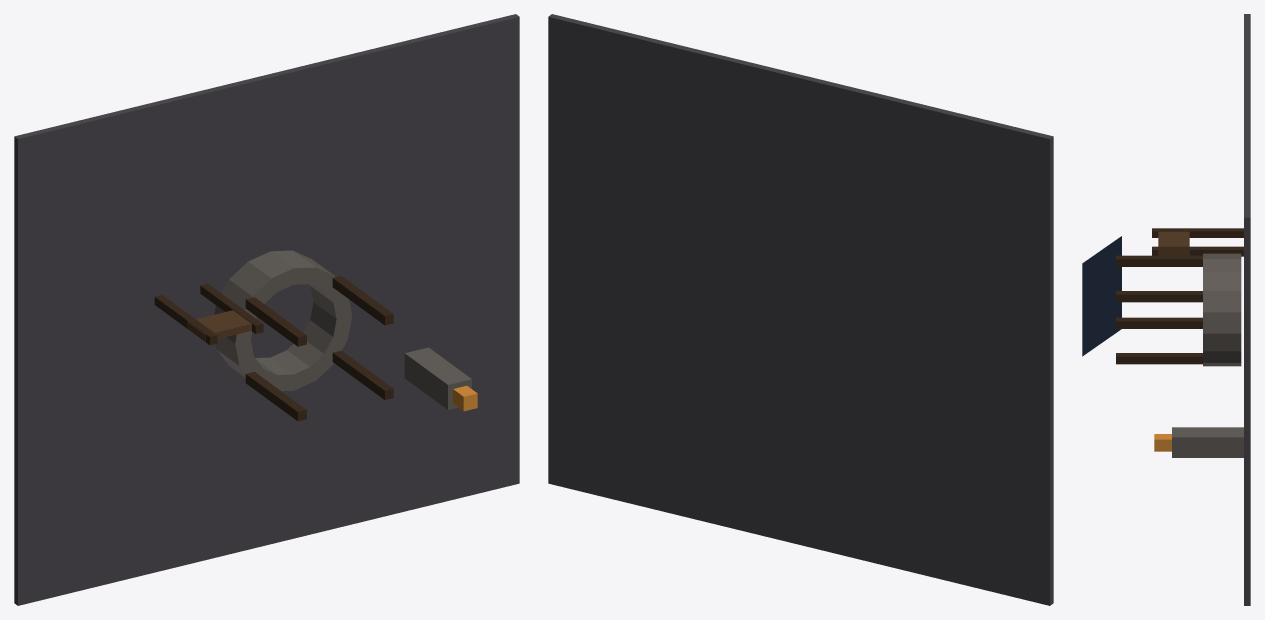
Rendered from t1-central-square-preview.obj.
3 renders of one model, left to right at view 1: azimuth 30°, elevation 25°; view 2: azimuth 150°, elevation 25°; view 3: azimuth 270°, elevation 25°, orthographic. The views are drawn at different scales.
Visible parts, largest first — view 1: town.center.paving, town.center.well, town.center.well-supports, town.center.lantern-pillar, town.center.noticeboard-posts, town.center.noticeboard-panel; view 2: town.center.paving; view 3: town.center.well, town.center.well-supports, town.center.paving, town.center.well-canopy, town.center.lantern-pillar, town.center.noticeboard-posts, town.center.noticeboard-panel, town.center.lantern-fixture.
Boxes of the visible parts, <box> form: town.center.paving: <box>14,14,519,605</box>; town.center.well: <box>214,250,352,391</box>; town.center.well-supports: <box>245,276,393,421</box>; town.center.lantern-pillar: <box>404,347,471,409</box>; town.center.noticeboard-posts: <box>154,283,263,345</box>; town.center.noticeboard-panel: <box>187,310,251,341</box>; town.center.paving: <box>548,14,1053,605</box>; town.center.well: <box>1203,253,1241,366</box>; town.center.well-supports: <box>1116,255,1202,364</box>; town.center.paving: <box>1244,14,1250,605</box>; town.center.well-canopy: <box>1082,236,1121,356</box>; town.center.lantern-pillar: <box>1172,427,1243,457</box>; town.center.noticeboard-posts: <box>1152,228,1243,256</box>; town.center.noticeboard-panel: <box>1158,231,1189,255</box>; town.center.lantern-fixture: <box>1154,434,1171,451</box>.
Bounding box in the file's own units: 9 × 8 × 3.14.
